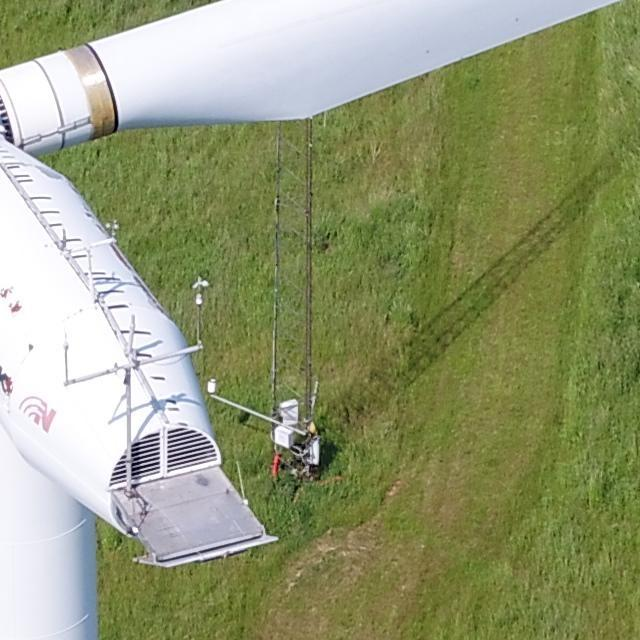damage: (3, 377, 13, 398), (9, 301, 23, 314), (1, 287, 14, 298), (27, 342, 35, 353)
